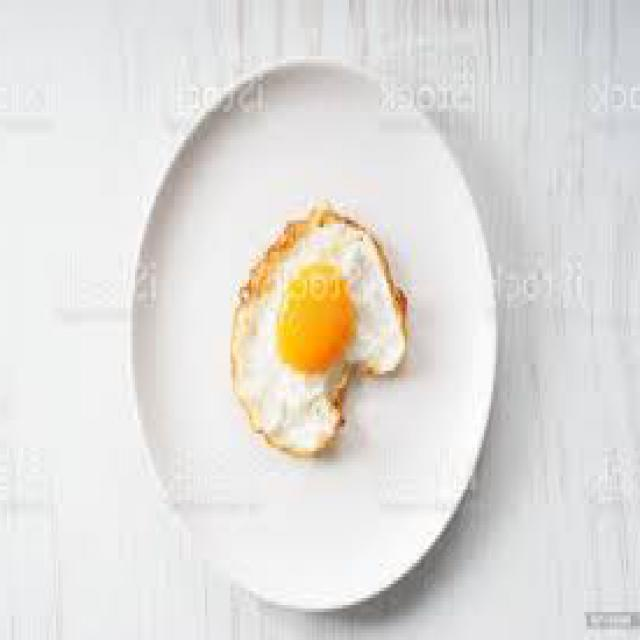Fried Egg: (230, 207, 408, 457)
